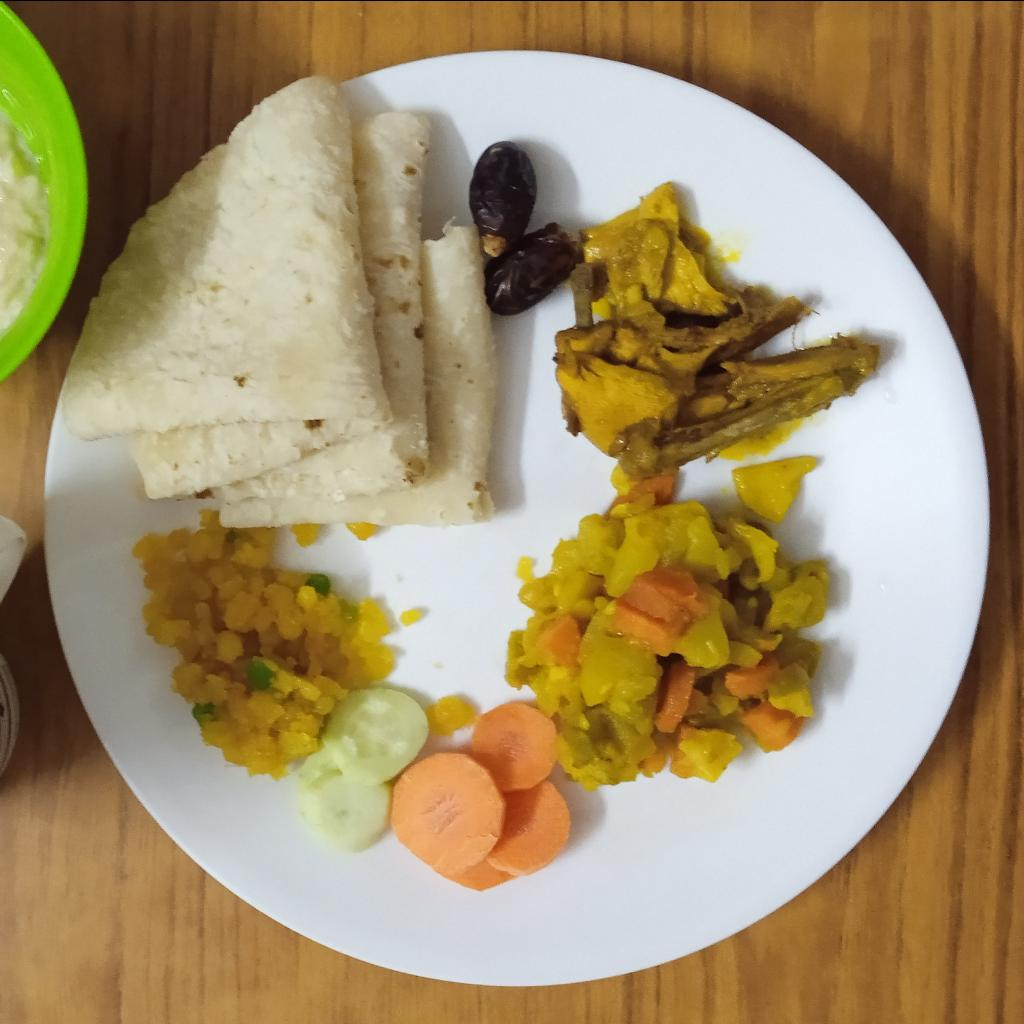burinda: (130, 508, 395, 779), (431, 694, 476, 736)
carrot: (394, 702, 572, 893)
chicken: (554, 182, 880, 475)
cucumber: (298, 688, 429, 853)
dates: (468, 141, 581, 315)
ruti: (63, 73, 500, 523)
vegetable: (505, 453, 830, 793)
